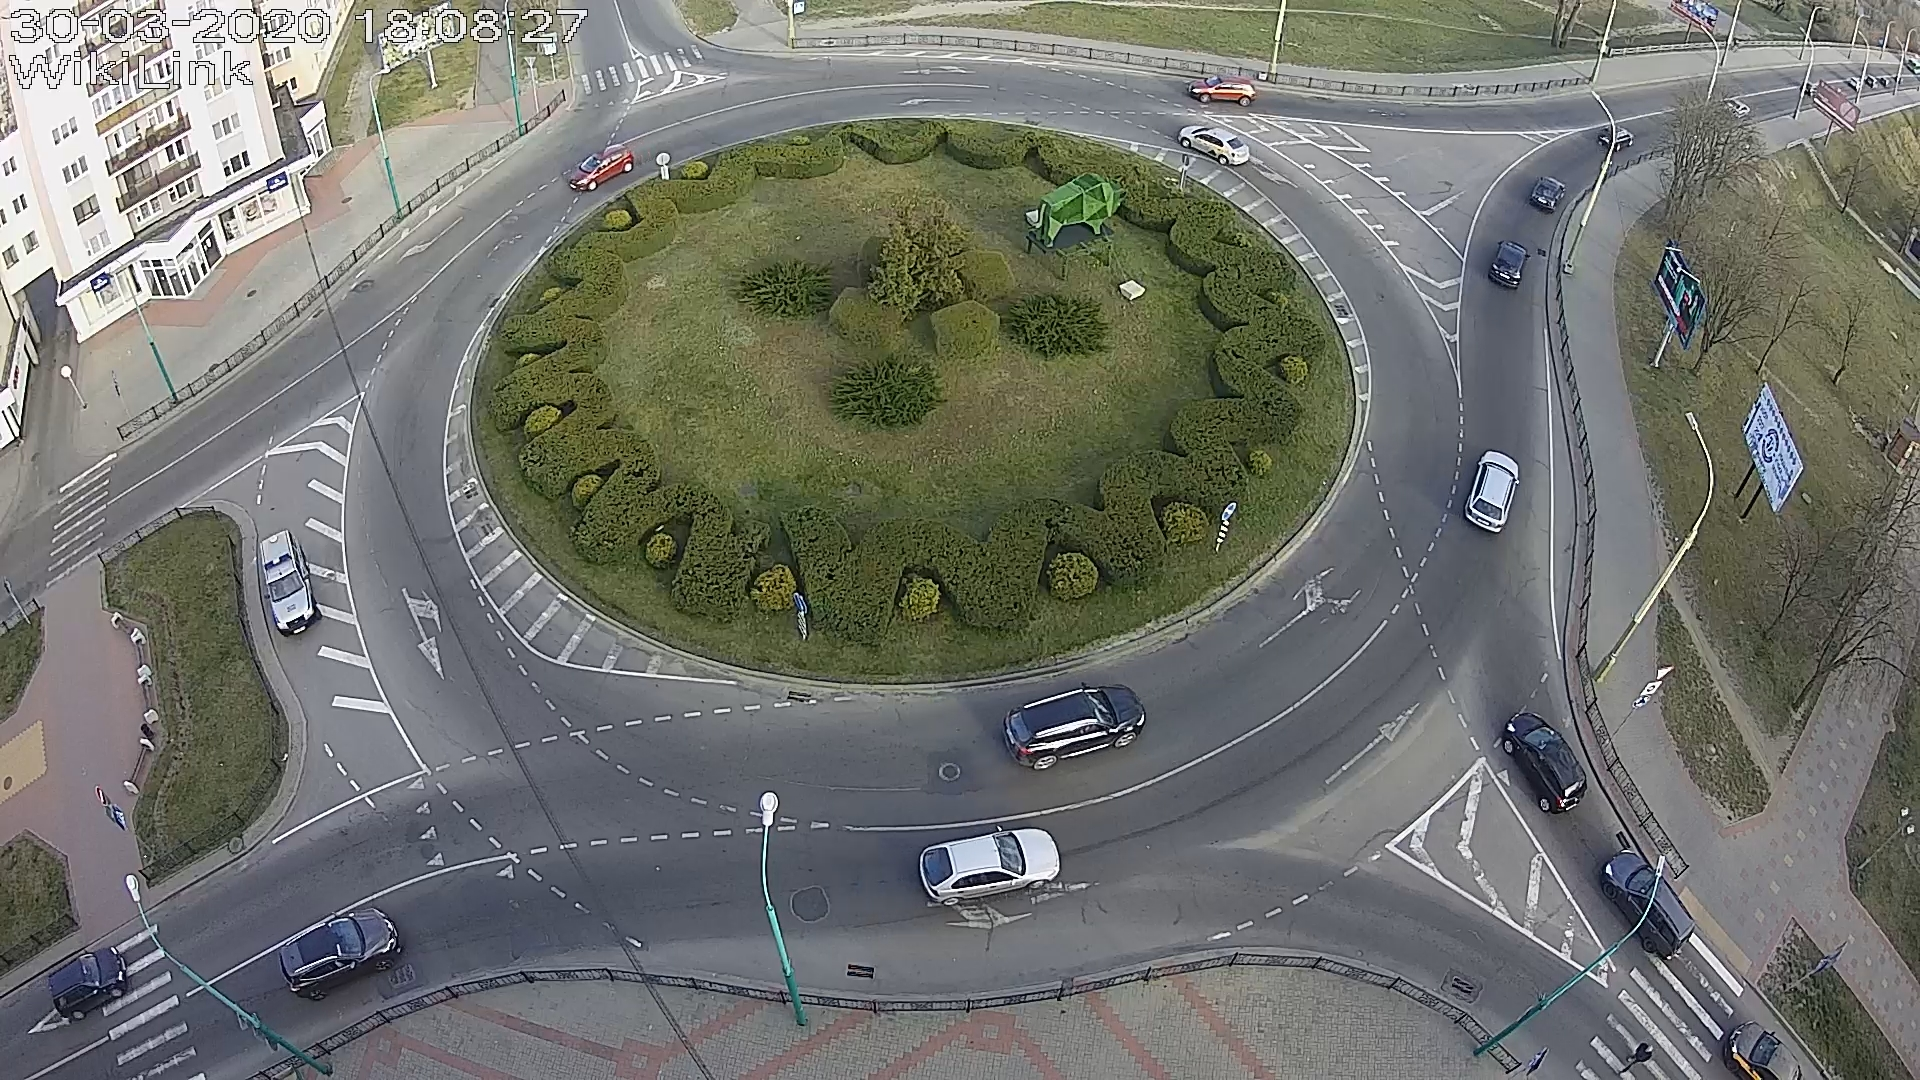car: (1002, 683, 1146, 771), (919, 824, 1060, 907), (278, 907, 400, 1002), (1600, 849, 1696, 961), (1503, 712, 1586, 814), (258, 529, 322, 637), (47, 945, 128, 1021), (1464, 448, 1520, 534), (568, 144, 634, 193), (1178, 125, 1250, 166), (1187, 75, 1257, 107), (1487, 240, 1531, 289), (1530, 175, 1568, 214), (1597, 125, 1635, 152)
